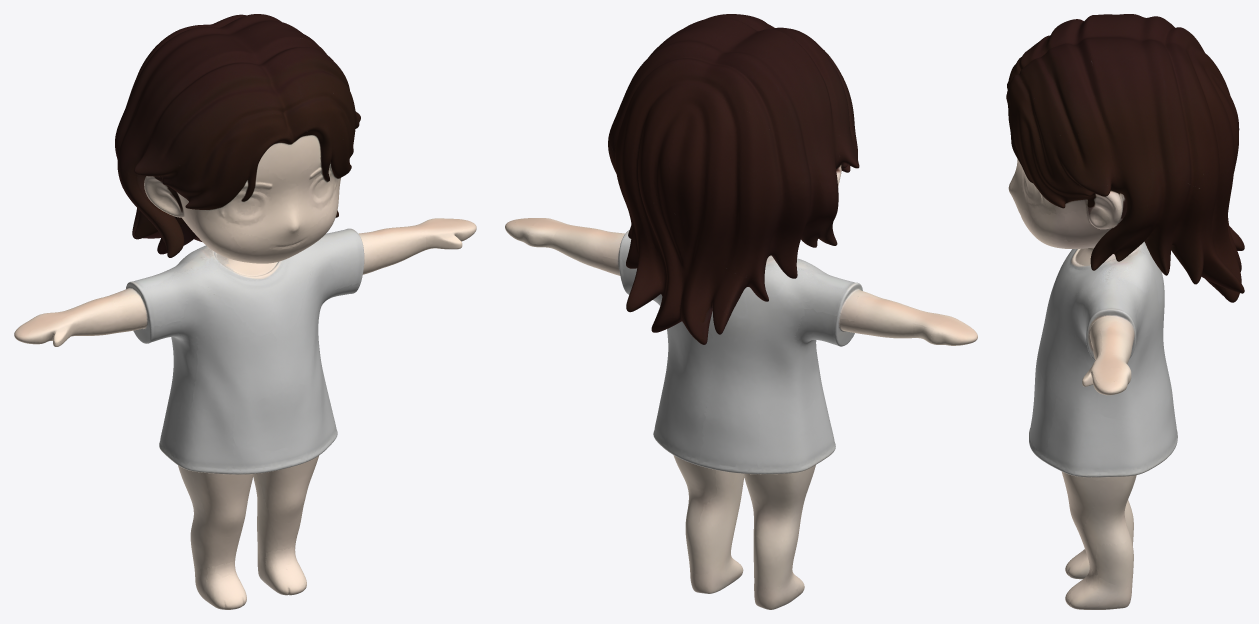
The model's file is baked_nhair_wavy.glb.
The picture shows the model from 3 angles, left to right: view 1: azimuth 30°, elevation 25°; view 2: azimuth 150°, elevation 25°; view 3: azimuth 270°, elevation 25°; orthographic projection. The views are drawn at different scales.
Size of the model in its own units: 1.66 by 1.9 by 0.7354.
Materials: 1 (1 with a texture image).
